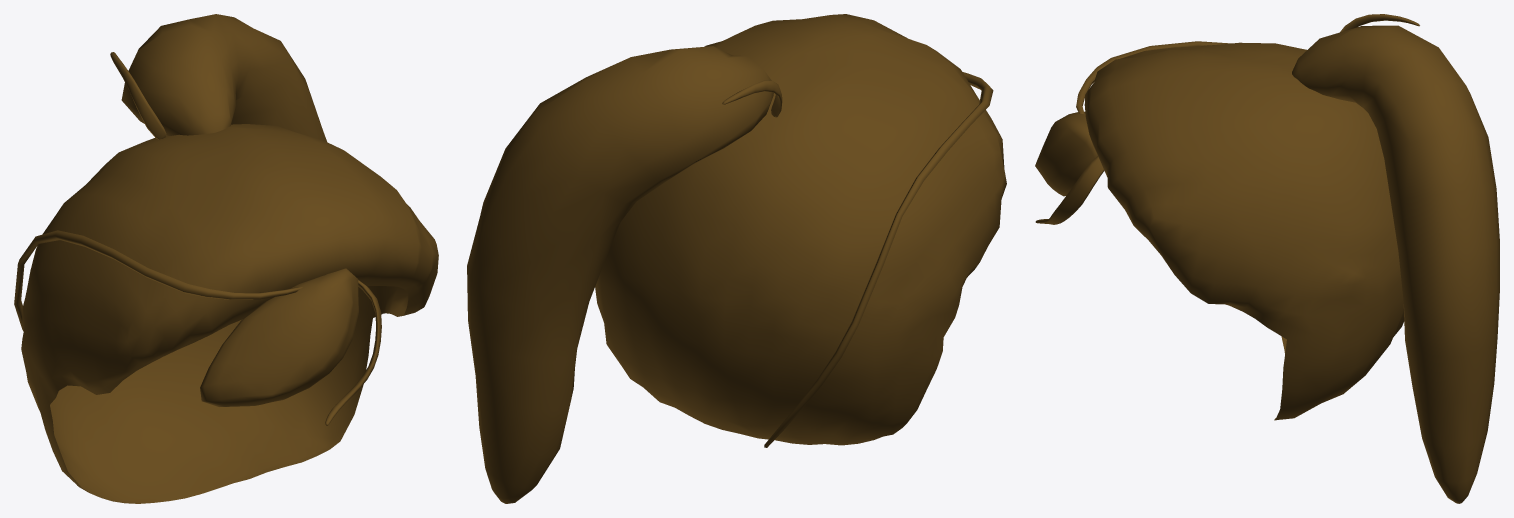
File: hair_10.fbx
3 views of the same model, side by side, from view 1: azimuth 30°, elevation 25°; view 2: azimuth 150°, elevation 25°; view 3: azimuth 270°, elevation 25° (orthographic). The views are drawn at different scales.
Visible parts, largest first — view 1: hair; view 2: hair; view 3: hair.
Boxes of the visible parts, x1=… form: hair: x1=14, y1=14, x2=438, y2=503; hair: x1=467, y1=14, x2=1006, y2=503; hair: x1=1035, y1=14, x2=1499, y2=503.
Size of the model in its own units: 1.01 by 1.15 by 1.16.
